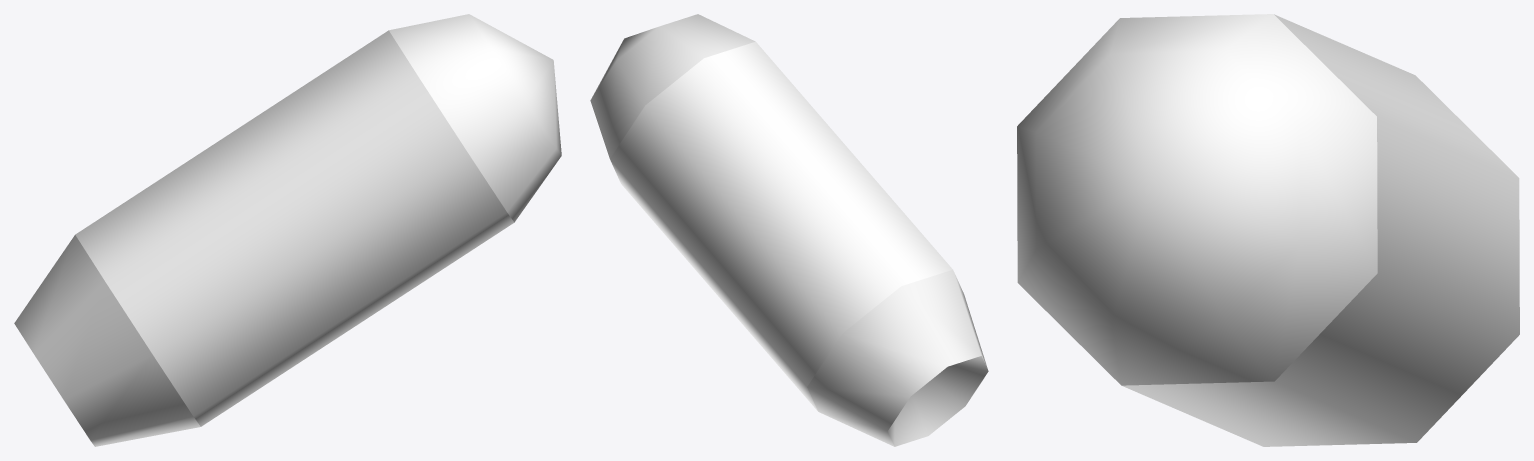
The model's file is ama_collectable_scrap_05.glb.
3 views of the same model, side by side, from view 1: azimuth 30°, elevation 25°; view 2: azimuth 150°, elevation 25°; view 3: azimuth 270°, elevation 25° (orthographic). The views are drawn at different scales.
Visible parts, largest first — view 1: shipScrapPart_05; view 2: shipScrapPart_05; view 3: shipScrapPart_05.
Part boxes in pixels (box(x1,y1,x2,y2)): shipScrapPart_05: box(14, 14, 561, 446); shipScrapPart_05: box(590, 14, 988, 446); shipScrapPart_05: box(1017, 14, 1519, 446).
Bounding box in the file's own units: 1.05 × 0.7834 × 0.5663.
Materials: 1 (1 with a texture image).
